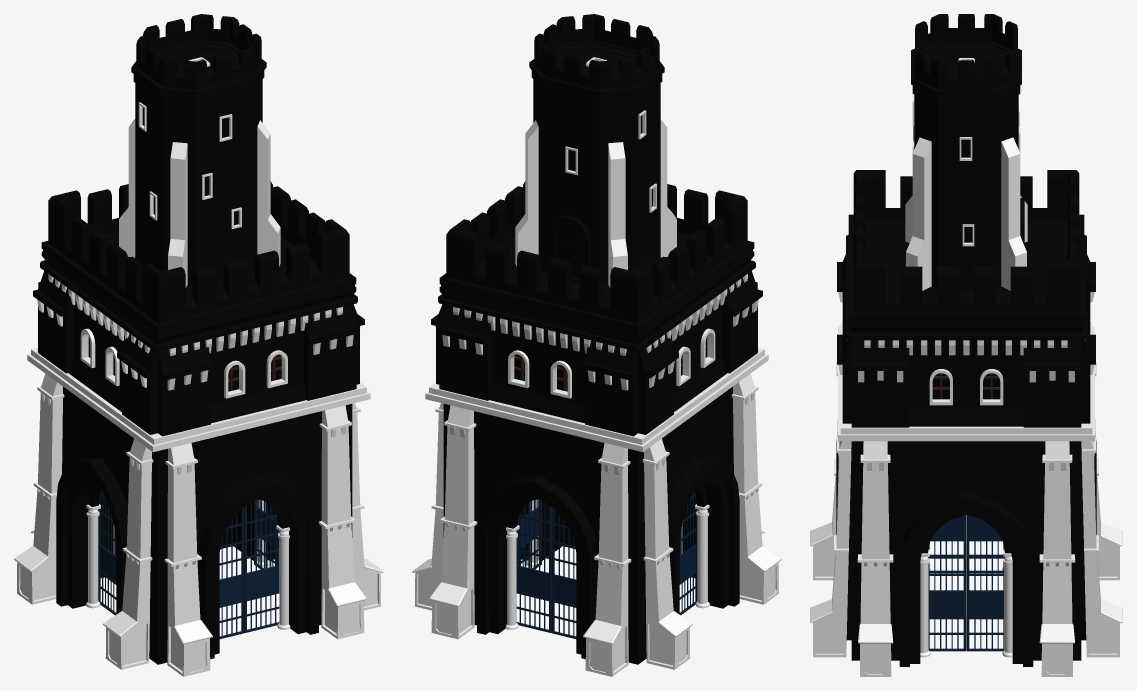
The model's file is sentinel_tower_b.FBX.
3 renders of one model, left to right at view 1: azimuth 30°, elevation 25°; view 2: azimuth 150°, elevation 25°; view 3: azimuth 270°, elevation 25°, orthographic. The views are drawn at different scales.
Visible parts, largest first — view 1: sentinel_tower_b; view 2: sentinel_tower_b; view 3: sentinel_tower_b.
Part boxes in pixels (left/top/right/bottom): sentinel_tower_b: left=14, top=14, right=383, bottom=676; sentinel_tower_b: left=412, top=14, right=781, bottom=676; sentinel_tower_b: left=810, top=14, right=1122, bottom=676.
Bounding box in the file's own units: 1225 × 2484 × 1225.
